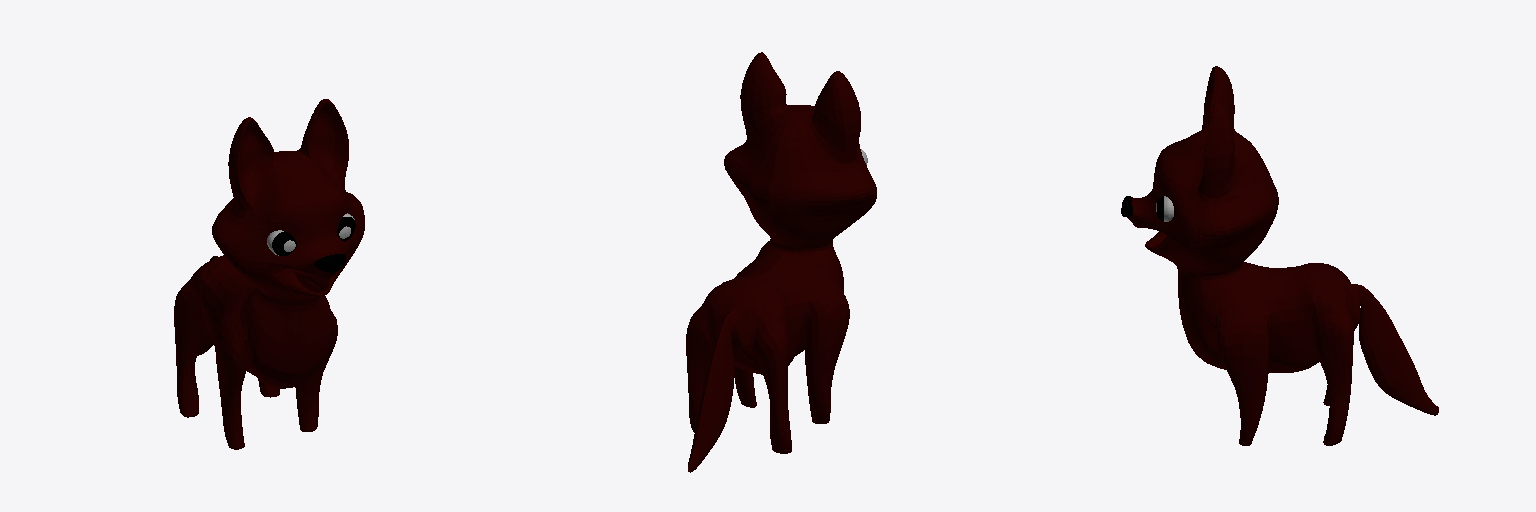
File: Coyotito.obj
3 renders of one model, left to right at view 1: azimuth 30°, elevation 25°; view 2: azimuth 150°, elevation 25°; view 3: azimuth 270°, elevation 25°, orthographic.
Parts seen in each view (by area): view 1: Cylinder_Cylinder.003; view 2: Cylinder_Cylinder.003; view 3: Cylinder_Cylinder.003.
Part boxes in pixels (x1,y1,x2,y2): Cylinder_Cylinder.003: (174, 99, 364, 449); Cylinder_Cylinder.003: (686, 52, 876, 472); Cylinder_Cylinder.003: (1121, 66, 1438, 445).
Size of the model in its own units: 1.26 by 2.85 by 2.4.